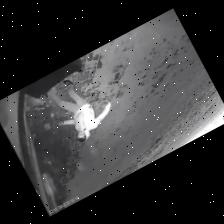person: (47, 79, 111, 141)
